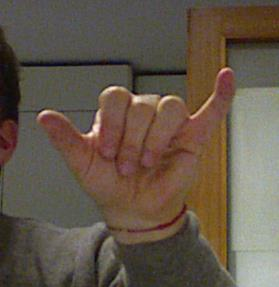clockwise: (31, 58, 240, 220)
